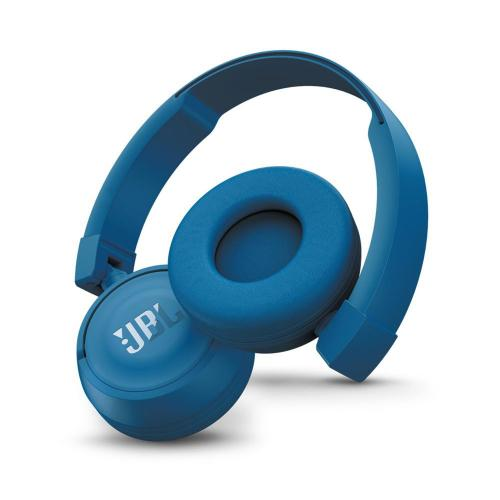Headphone: (66, 46, 433, 450)
